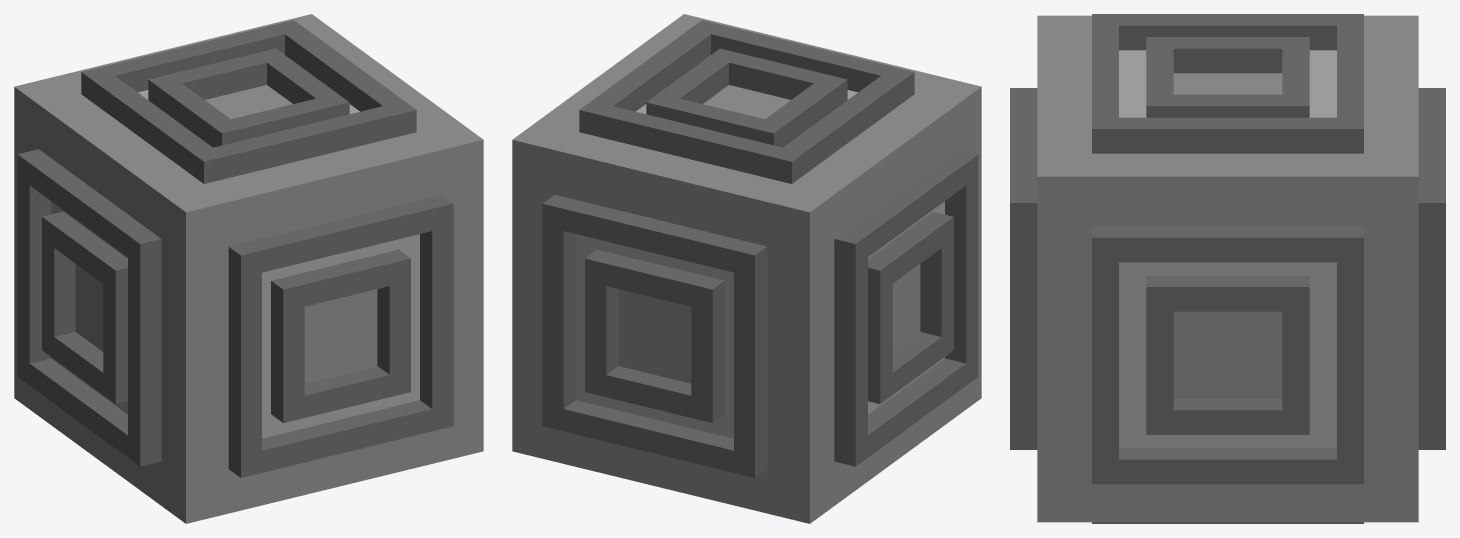
File: BlockMonster.obj
The picture shows the model from 3 angles, left to right: view 1: azimuth 30°, elevation 25°; view 2: azimuth 150°, elevation 25°; view 3: azimuth 270°, elevation 25°; orthographic projection. The views are drawn at different scales.
Size of the model in its own units: 1 by 1 by 1.
1 material, 1 textured.
